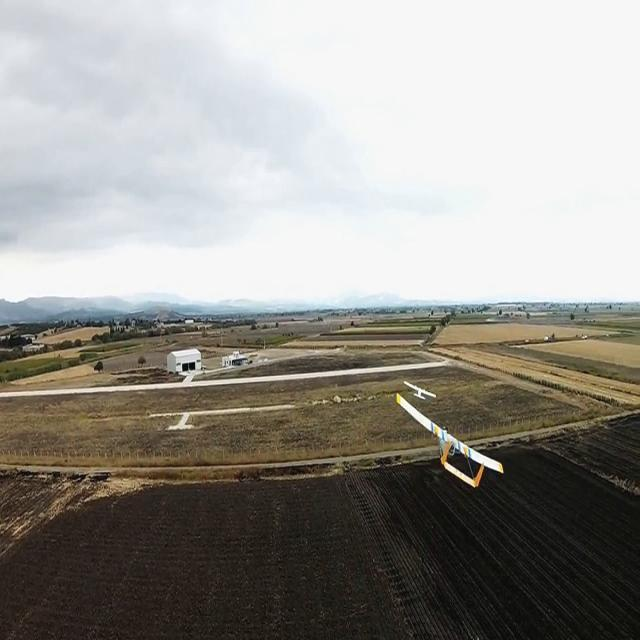iha: (423, 422, 482, 457), (400, 377, 440, 403)
